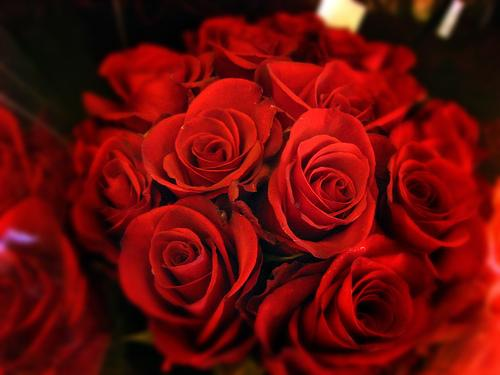rose: (119, 196, 262, 358), (294, 231, 435, 374), (267, 106, 382, 258), (143, 77, 288, 182), (260, 54, 412, 133), (383, 141, 484, 254), (66, 127, 158, 226)
